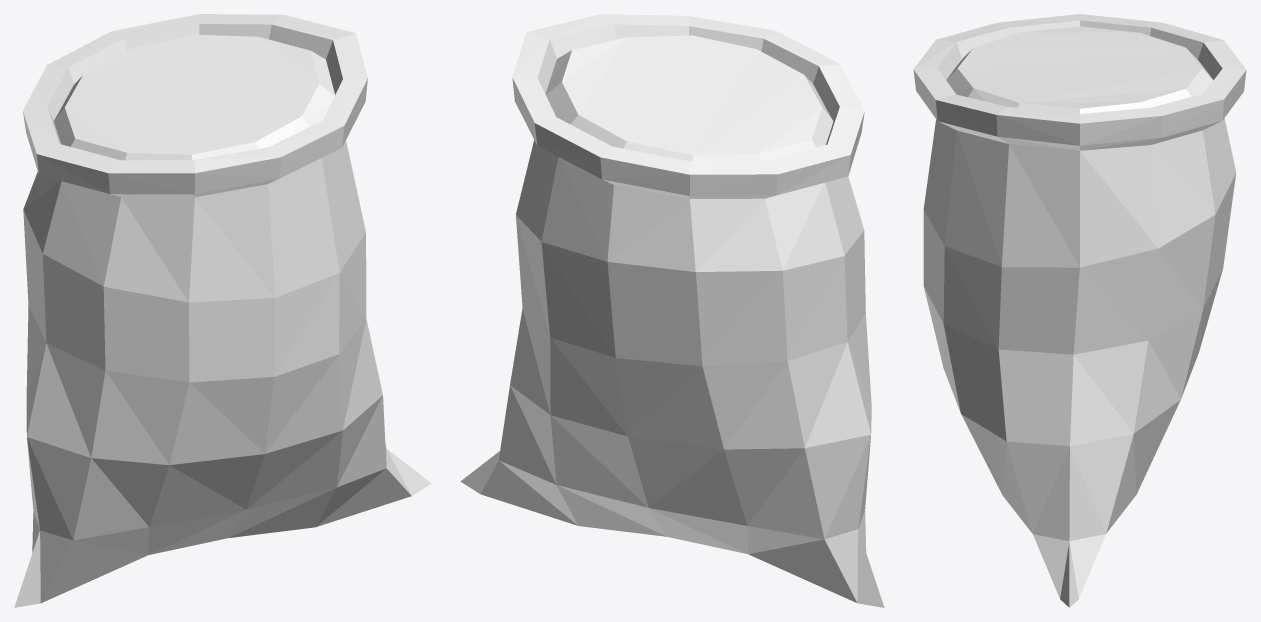
The model's file is Prop_Sack_01.glb.
The picture shows the model from 3 angles, left to right: view 1: azimuth 30°, elevation 25°; view 2: azimuth 150°, elevation 25°; view 3: azimuth 270°, elevation 25°; orthographic projection. The views are drawn at different scales.
Parts seen in each view (by area): view 1: Prop_Sack_01; view 2: Prop_Sack_01; view 3: Prop_Sack_01.
Part boxes in pixels (x1=…): Prop_Sack_01: x1=14, y1=14, x2=431, y2=607; Prop_Sack_01: x1=460, y1=14, x2=884, y2=607; Prop_Sack_01: x1=913, y1=14, x2=1246, y2=607.
Bounding box in the file's own units: 0.5115 × 0.5688 × 0.3631.
Materials: 1 (1 with a texture image).
